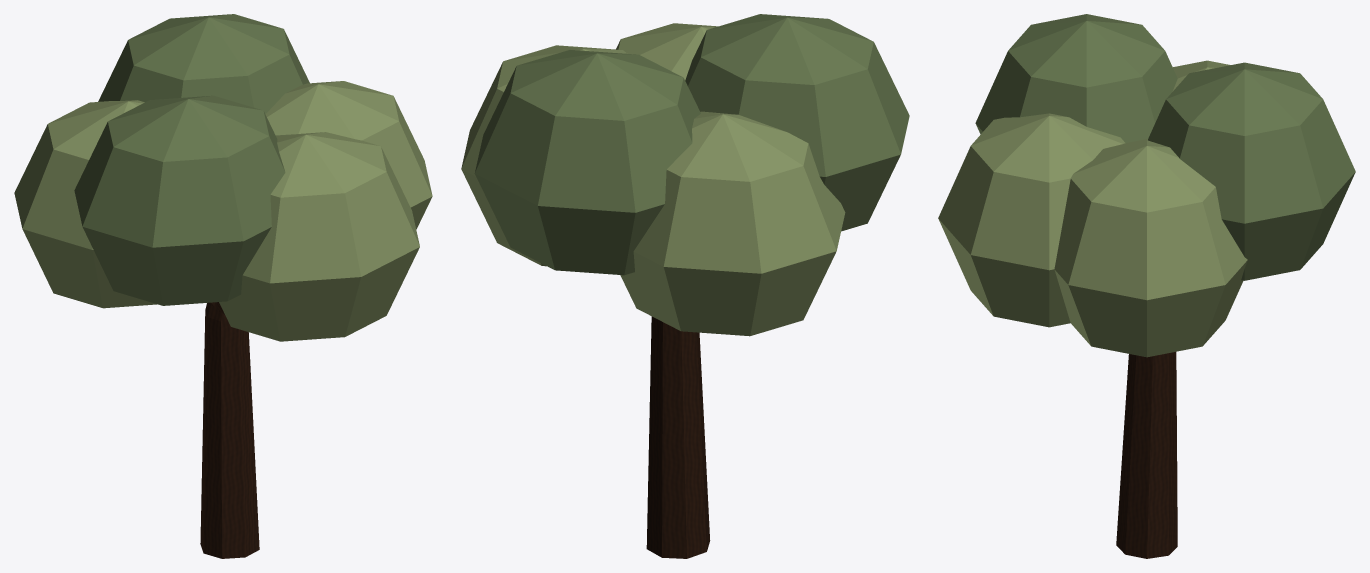
Rendered from nature_broadleaf.glb.
3 views of the same model, side by side, from view 1: azimuth 30°, elevation 25°; view 2: azimuth 150°, elevation 25°; view 3: azimuth 270°, elevation 25° (orthographic). The views are drawn at different scales.
Visible parts, largest first — view 1: canopy.003, canopy.004, canopy.001, canopy.002, tree_trunk, canopy; view 2: canopy.001, canopy.002, canopy.003, tree_trunk, canopy, canopy.004; view 3: canopy, canopy.001, canopy.004, canopy.003, tree_trunk, canopy.002.
Part boxes in pixels (x1=…): canopy.003: x1=74, y1=95, x2=285, y2=305; canopy.004: x1=219, y1=132, x2=419, y2=341; canopy.001: x1=98, y1=14, x2=309, y2=113; canopy.002: x1=14, y1=100, x2=156, y2=308; tree_trunk: x1=200, y1=302, x2=259, y2=558; canopy: x1=265, y1=81, x2=432, y2=229; canopy.001: x1=474, y1=50, x2=700, y2=275; canopy.002: x1=620, y1=111, x2=845, y2=336; canopy.003: x1=685, y1=14, x2=909, y2=231; tree_trunk: x1=646, y1=316, x2=710, y2=558; canopy: x1=461, y1=45, x2=627, y2=266; canopy.004: x1=616, y1=23, x2=717, y2=80; canopy: x1=1054, y1=139, x2=1247, y2=357; canopy.001: x1=1148, y1=62, x2=1355, y2=280; canopy.004: x1=938, y1=113, x2=1125, y2=327; canopy.003: x1=975, y1=14, x2=1177, y2=142; tree_trunk: x1=1116, y1=352, x2=1177, y2=558; canopy.002: x1=1172, y1=60, x2=1230, y2=91.
Size of the model in its own units: 2.53 by 3.16 by 2.44.
3 materials, 1 textured.
